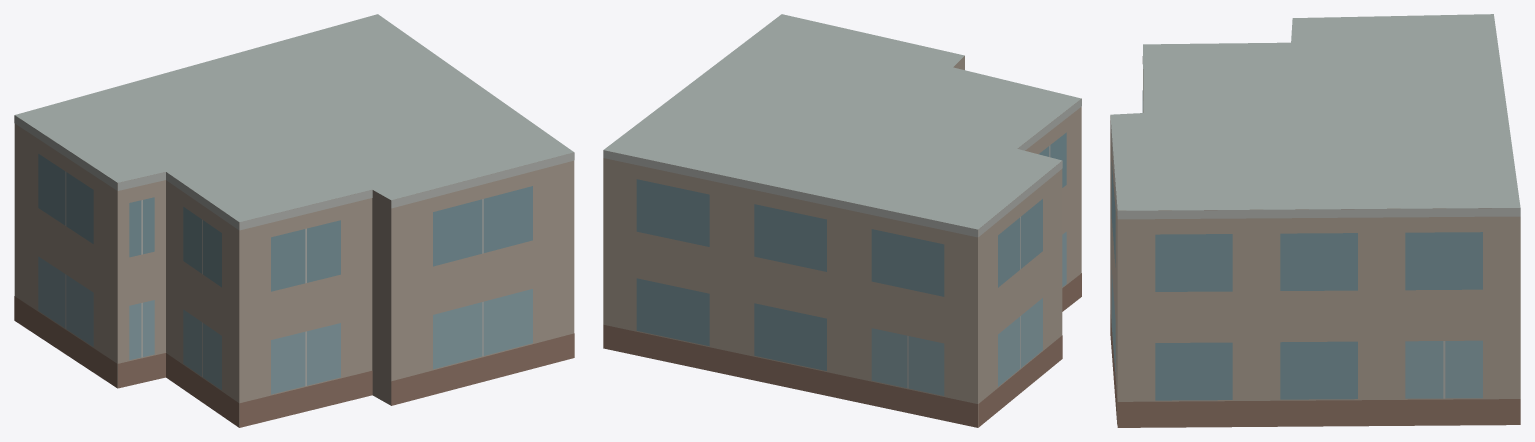
Rendered from survey-upis-32659476.glb.
The picture shows the model from 3 angles, left to right: view 1: azimuth 30°, elevation 25°; view 2: azimuth 150°, elevation 25°; view 3: azimuth 270°, elevation 25°; orthographic projection. The views are drawn at different scales.
Visible parts, largest first — view 1: survey-upis-32659476.tmp; view 2: survey-upis-32659476.tmp; view 3: survey-upis-32659476.tmp.
Boxes of the visible parts, bbox=[...] form: survey-upis-32659476.tmp: bbox=[14, 14, 574, 427]; survey-upis-32659476.tmp: bbox=[603, 14, 1081, 427]; survey-upis-32659476.tmp: bbox=[1110, 14, 1520, 427].
Bounding box in the file's own units: 11.86 × 6.1 × 10.46.
